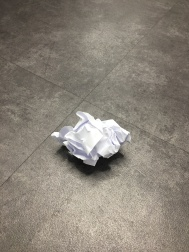paper_brown: (49, 106, 140, 173)
